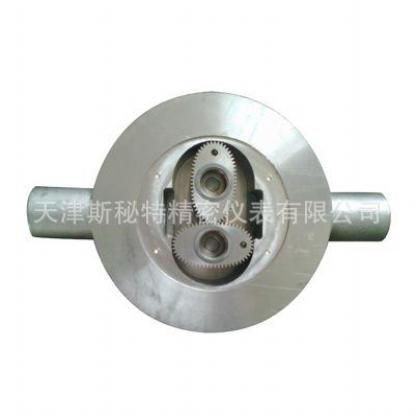FOD: (172, 217, 256, 286)
